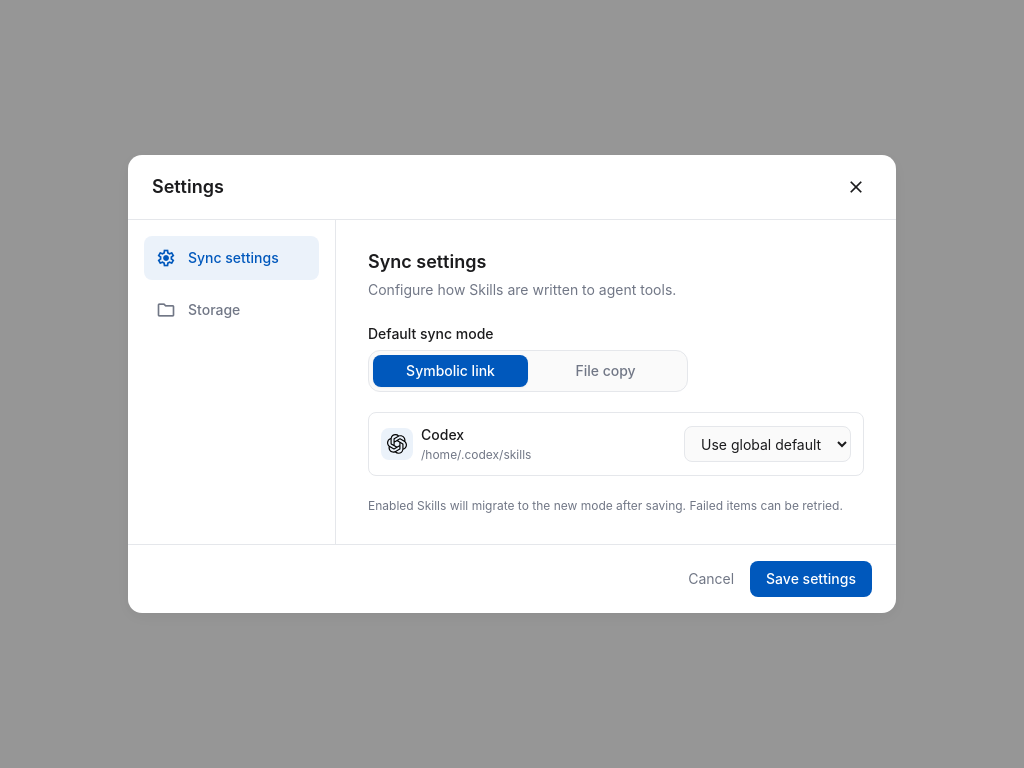
Test: SkillSettingsModal › shows a desktop-only hint instead of the path when skillsPath is empty
The image size is (1024, 768).
Click the button "Storage". click: (232, 310)
box: x1=144 y1=288 x2=319 y2=332
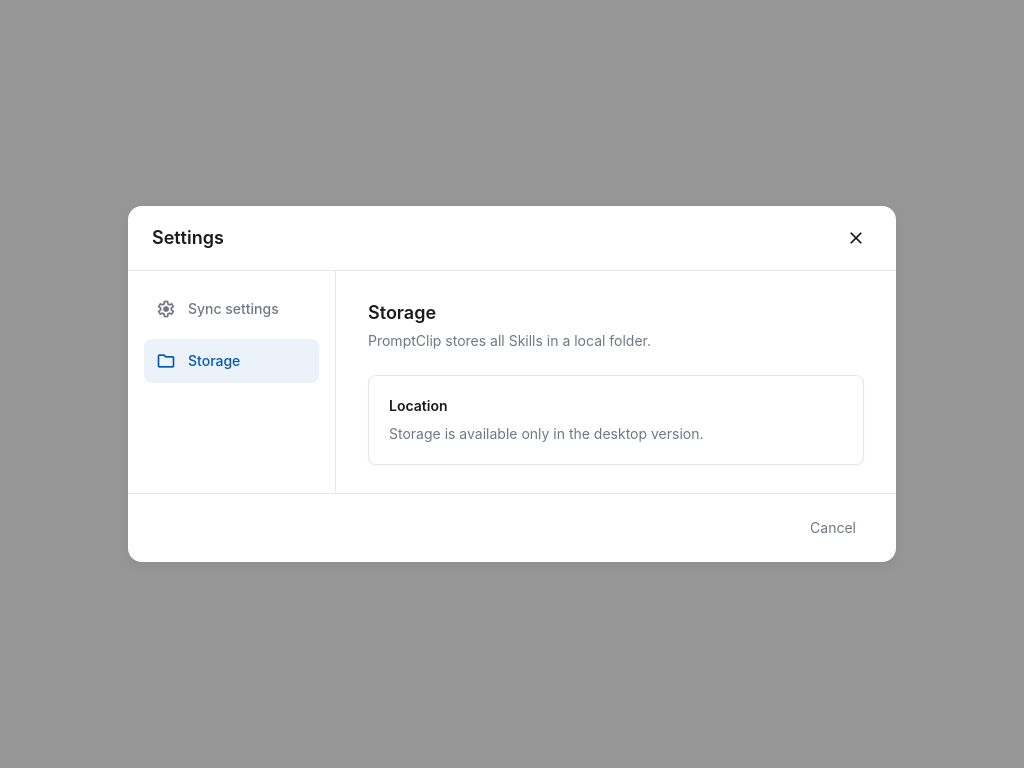
Expected: the text "Storage is available only in the desktop version." is shown, x1=389 y1=425 x2=704 y2=442
